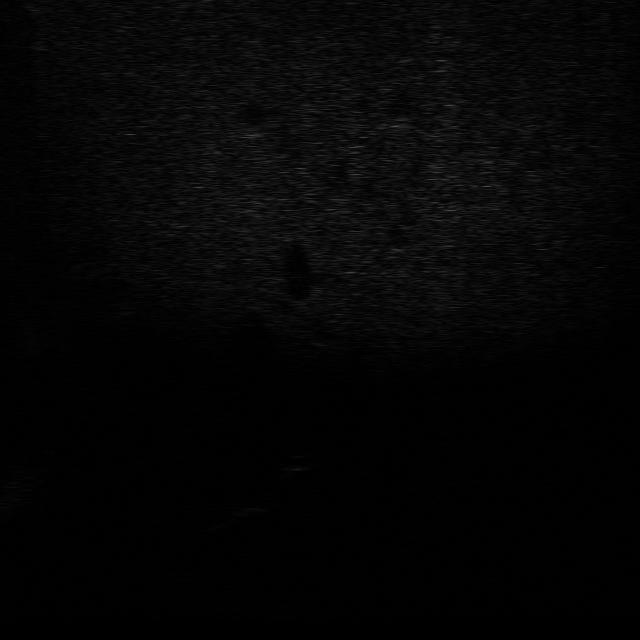ball: (264, 448, 324, 477)
square cage: (210, 486, 284, 520)
